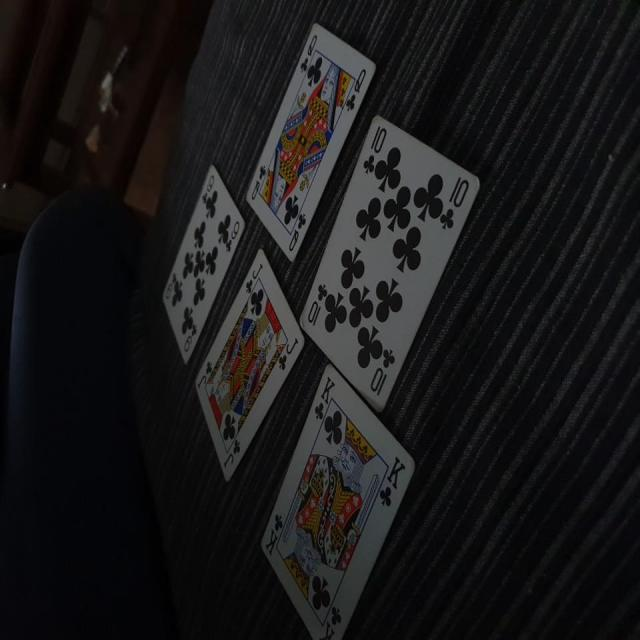10 Trefoils: (295, 114, 482, 413)
9 Trefoils: (161, 162, 244, 365)
J Trefoils: (190, 249, 305, 486)
K Trefoils: (259, 362, 415, 640)
Q Trefoils: (241, 23, 376, 264)
